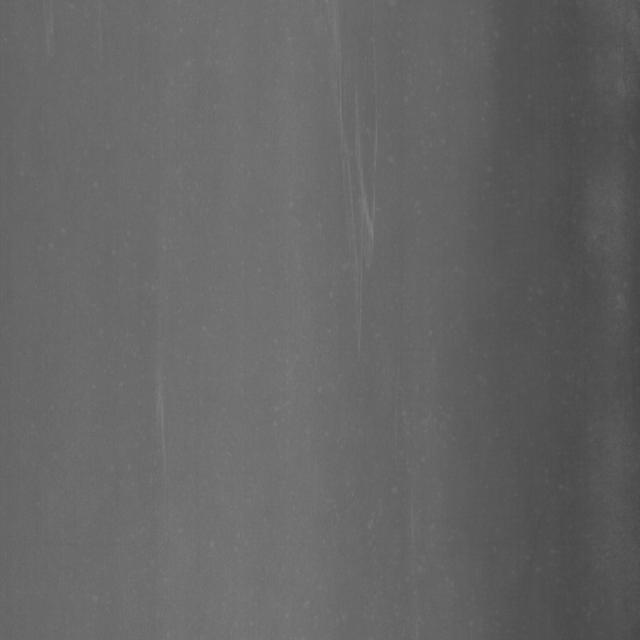inclusion: (336, 77, 395, 310)
